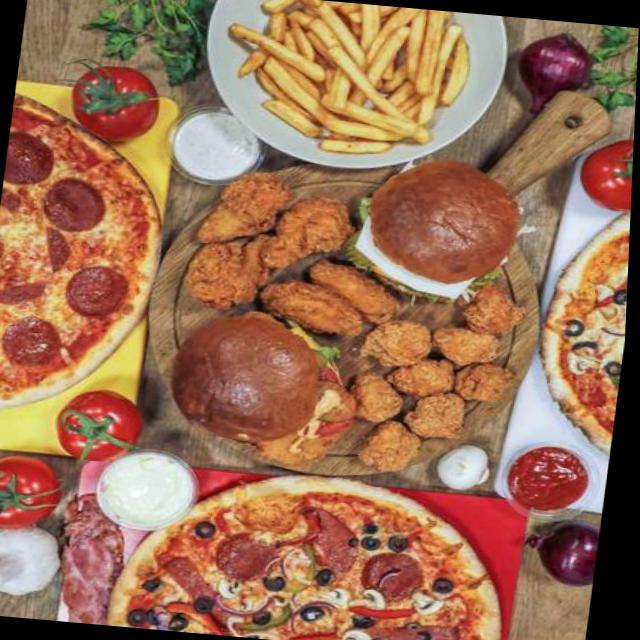burger: (166, 297, 372, 467), (338, 150, 533, 311)
pizza: (110, 455, 529, 640), (0, 84, 184, 422), (526, 178, 634, 480)
